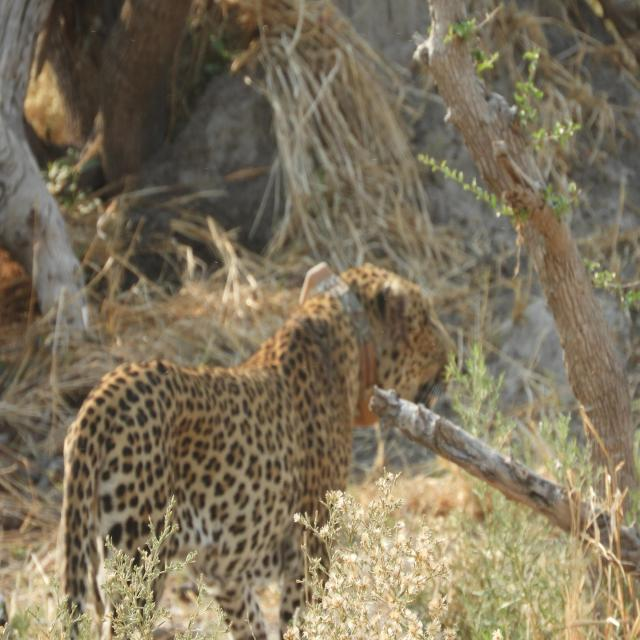Leopard: (44, 272, 467, 640)
